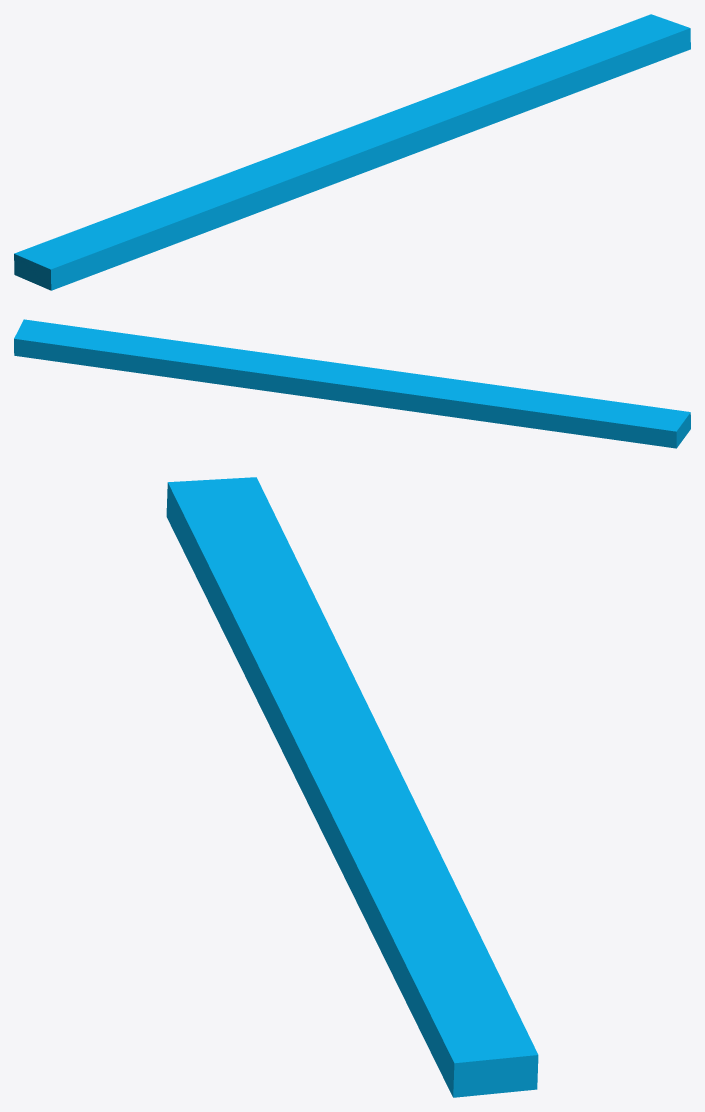
The model's file is FaceNotStraight_col.fbx.
The picture shows the model from 3 angles, top to bottom: view 1: azimuth 30°, elevation 25°; view 2: azimuth 150°, elevation 25°; view 3: azimuth 270°, elevation 25°; orthographic projection. The views are drawn at different scales.
Parts seen in each view (by area): view 1: UBX_Stope_Face_low_015__1_; view 2: UBX_Stope_Face_low_015__1_; view 3: UBX_Stope_Face_low_015__1_.
Boxes of the visible parts, bbox=[...] form: UBX_Stope_Face_low_015__1_: bbox=[14, 14, 690, 290]; UBX_Stope_Face_low_015__1_: bbox=[14, 319, 690, 448]; UBX_Stope_Face_low_015__1_: bbox=[166, 477, 538, 1097].
Bounding box in the file's own units: 3503 × 103 × 935.
